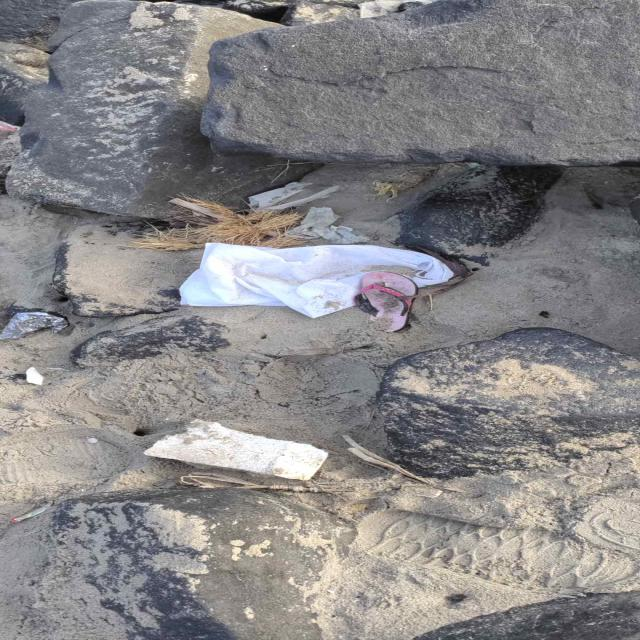dep: (354, 272, 417, 332)
vai_vun: (178, 242, 452, 318)
